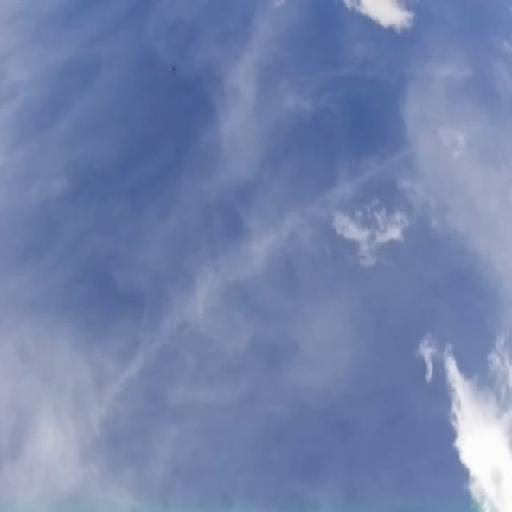drones: (168, 58, 180, 78)
